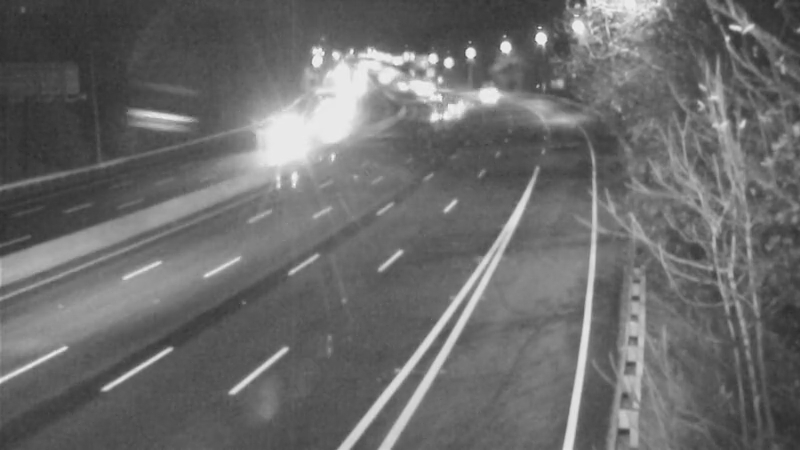vehicle: (459, 69, 509, 119), (404, 67, 454, 117), (435, 78, 485, 128), (412, 89, 462, 139), (264, 115, 314, 165), (303, 93, 353, 143)
